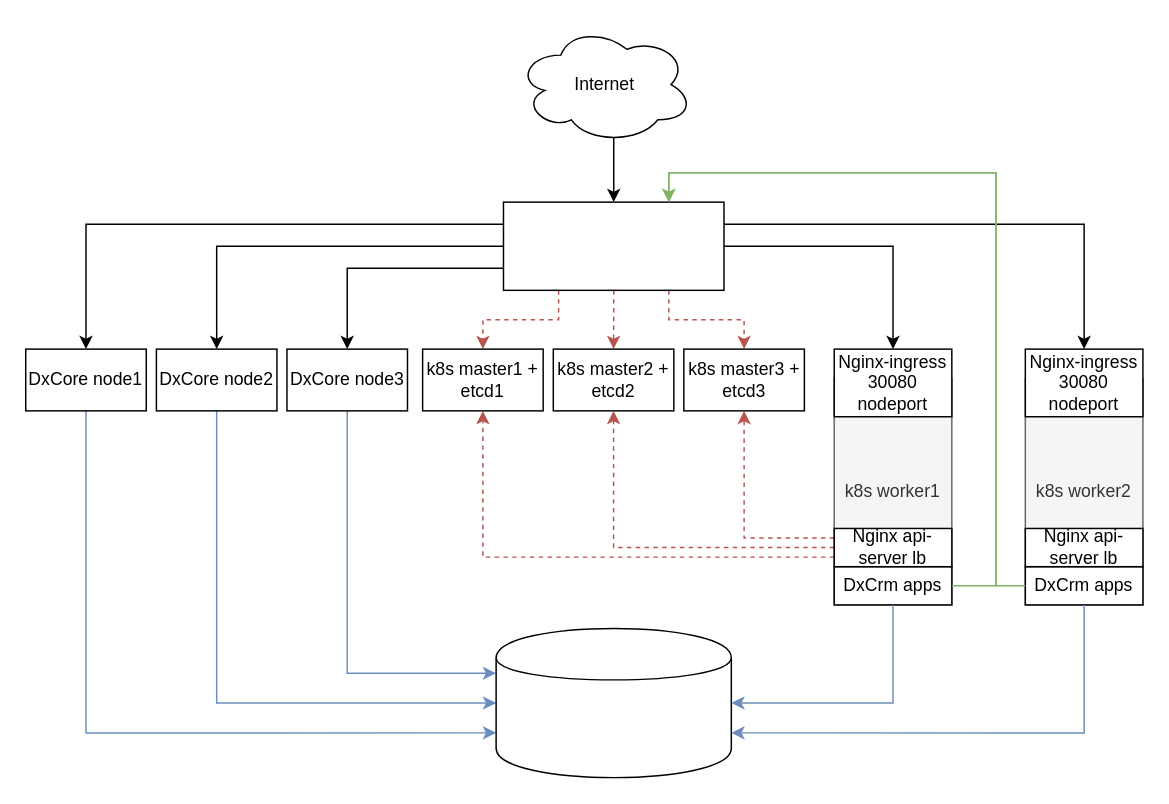
This 1169x804 diagram has some shape labels left out. The centre of each missing label's shape, as x and y in pixels:
"Haproxy(one of them), SSL" belongs at point 613,245.
"Patroni Postgres Cluster" belongs at point 613,702.
